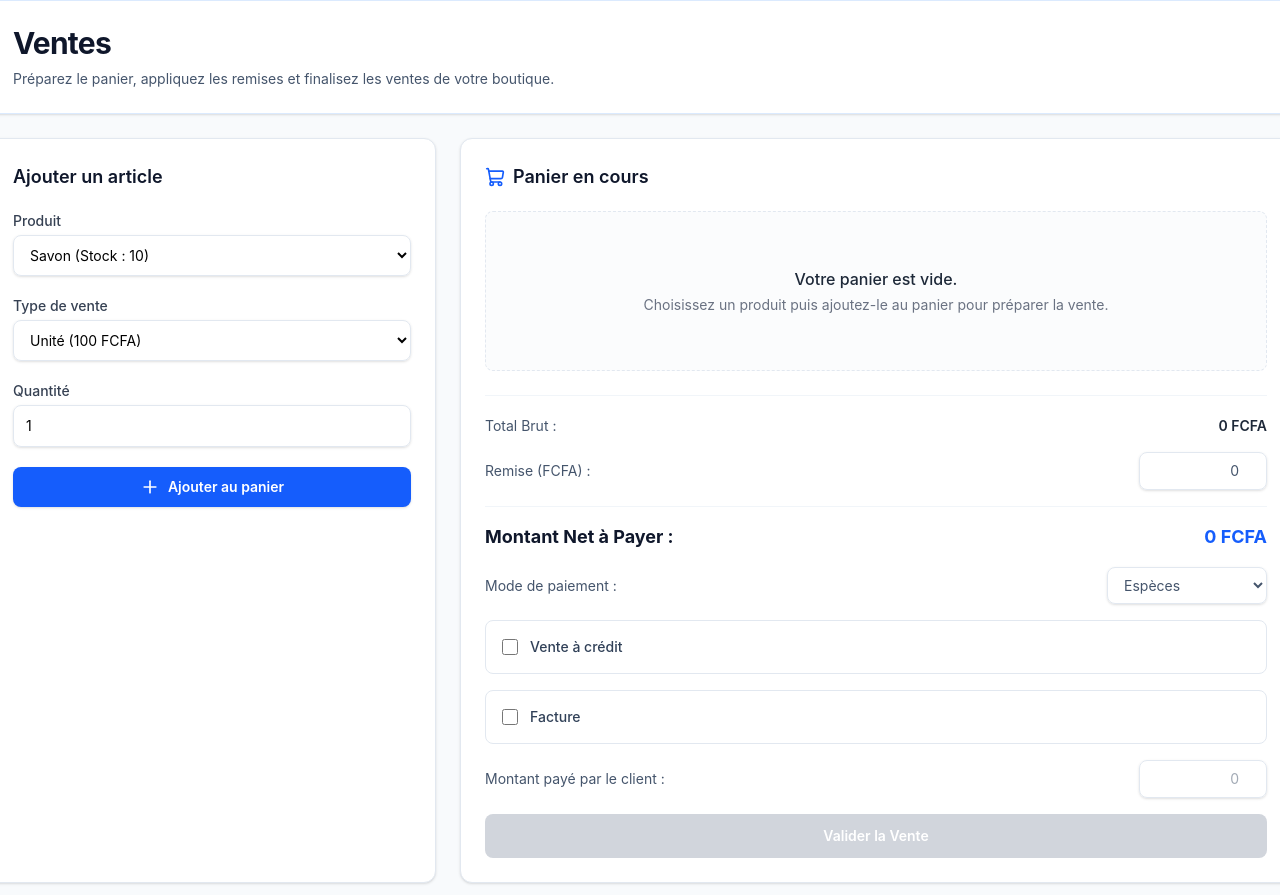
Scenario: Sales : case « Facture » › hors ligne, case cochée : la demande part dans la file, numéro attribué à la synchronisation
Step 1. Click the button "Ajouter au panier" → (212, 487), box [13,467,411,507]
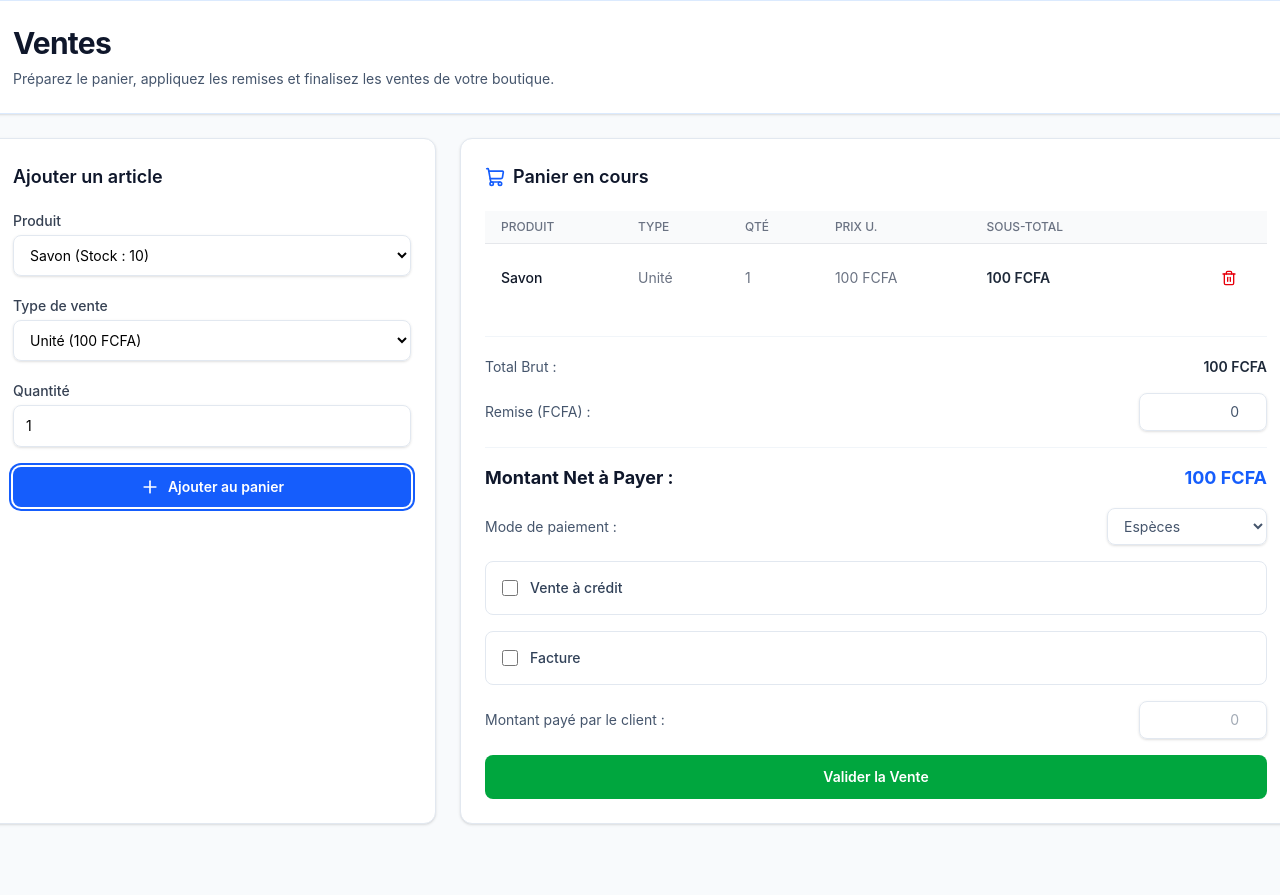
Step 2. Type "100" into the number field with placeholder "0" → (1203, 720), box [1139,701,1267,739]
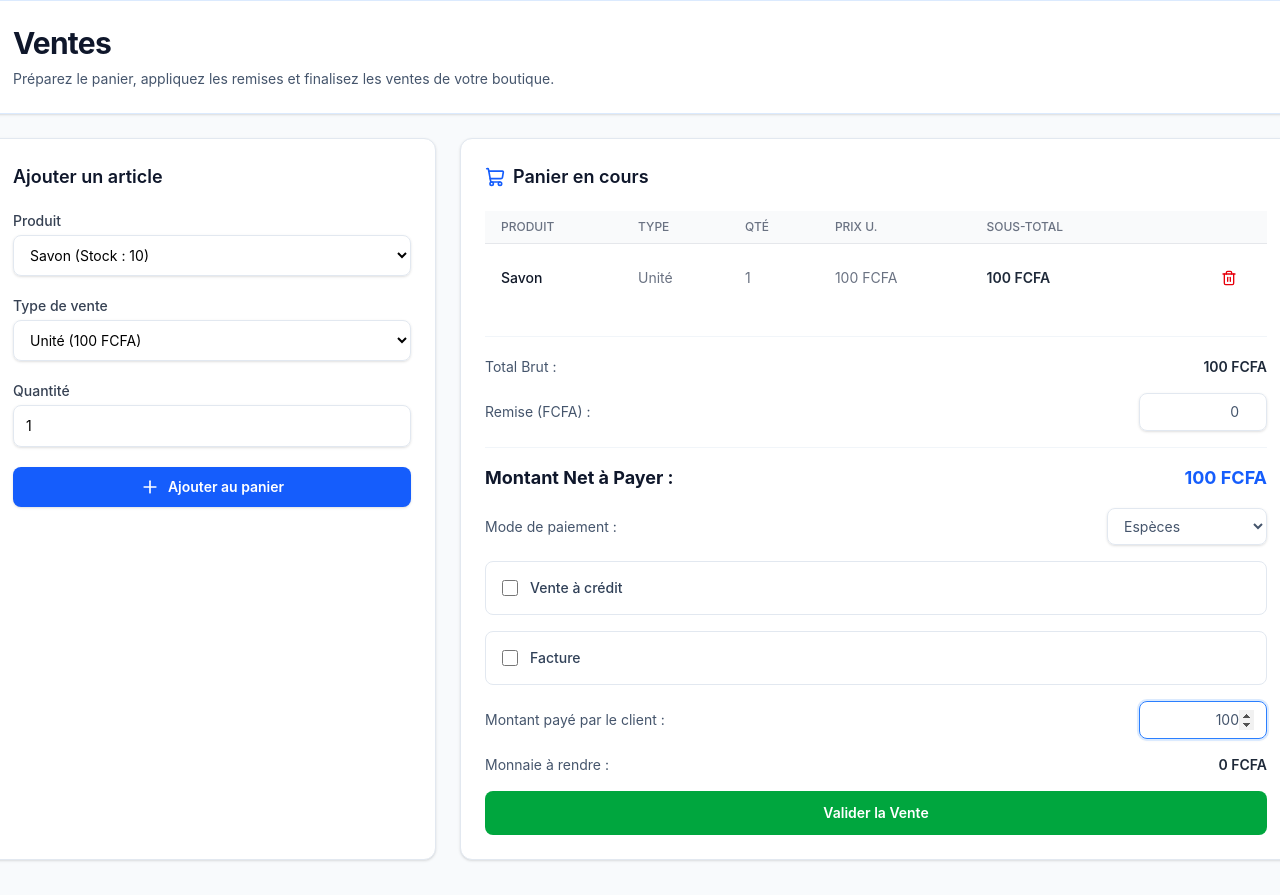
Step 3. Click the checkbox labelled "Facture" → (510, 658), box [502,650,518,666]
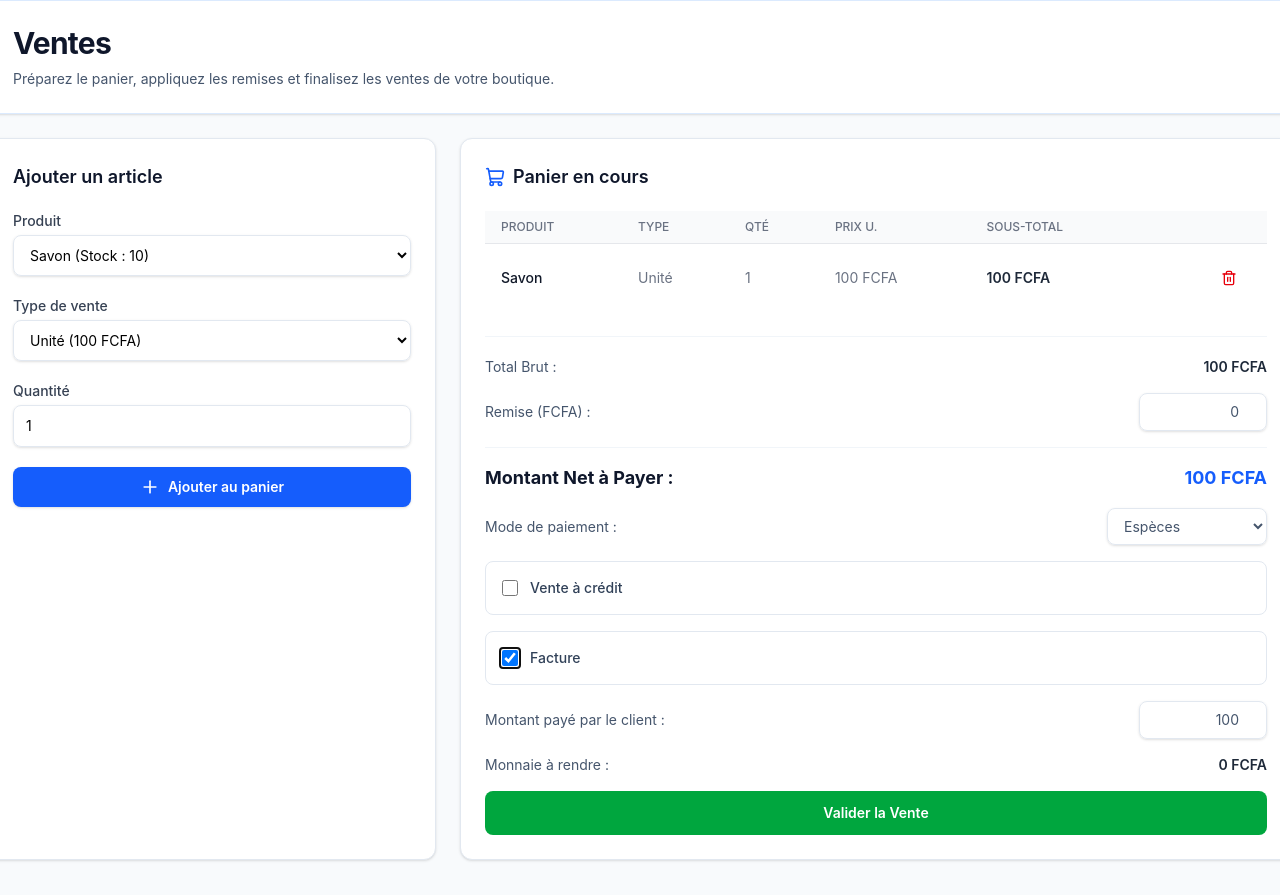
Step 4. Click the button "Valider la Vente" → (876, 813), box [485,791,1267,835]
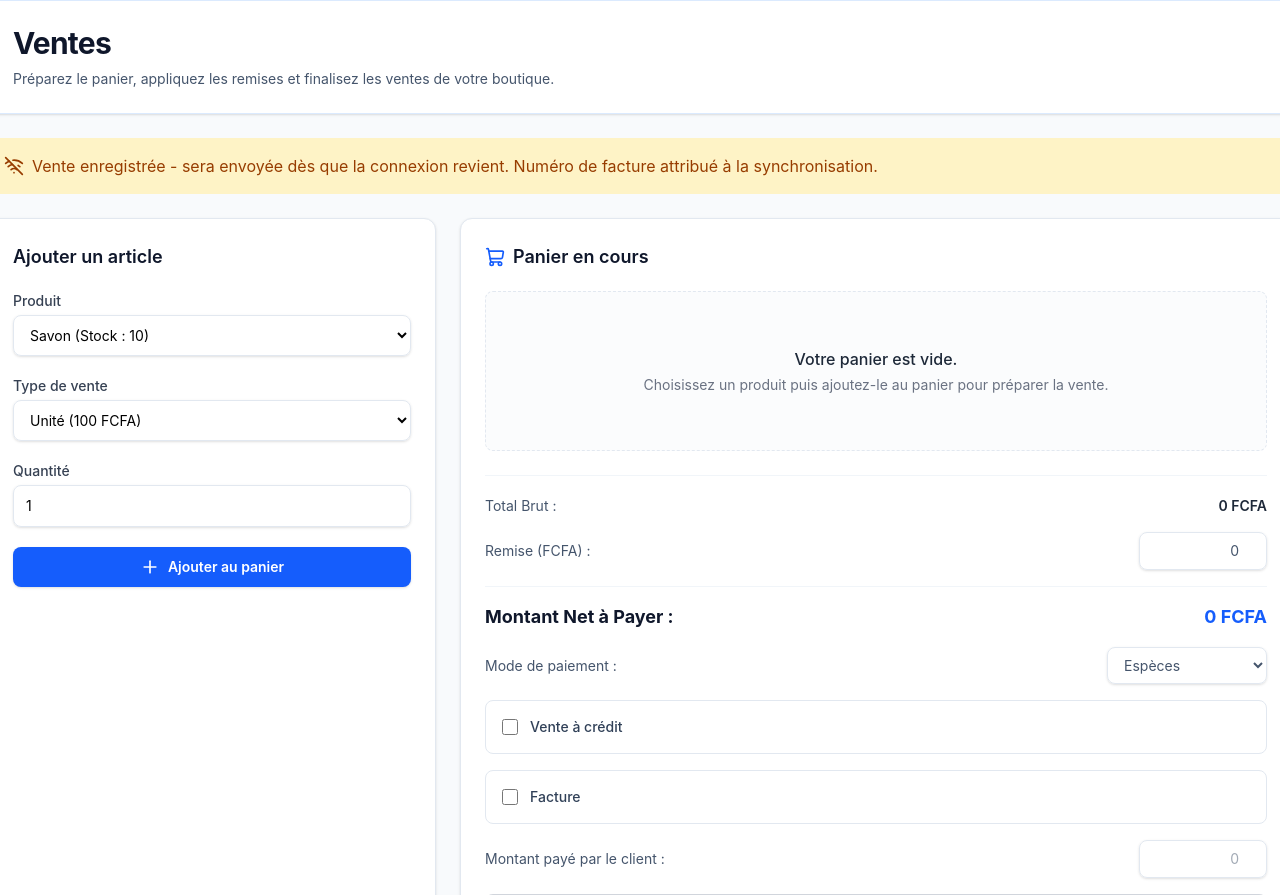
Result: the checkbox labelled "Facture" is not checked at [502,789,518,805]
Result: the text "Numéro de facture attribué à la synchronisation" is shown at [32,156,878,176]
